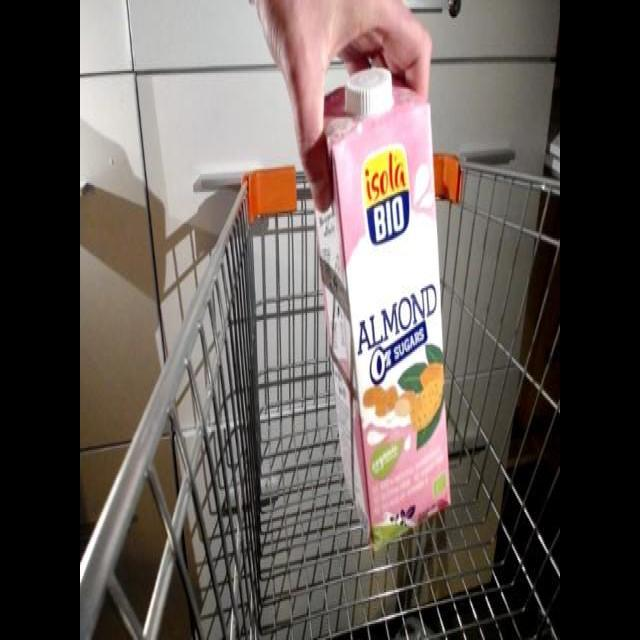Almond Milk: (304, 64, 459, 558)
